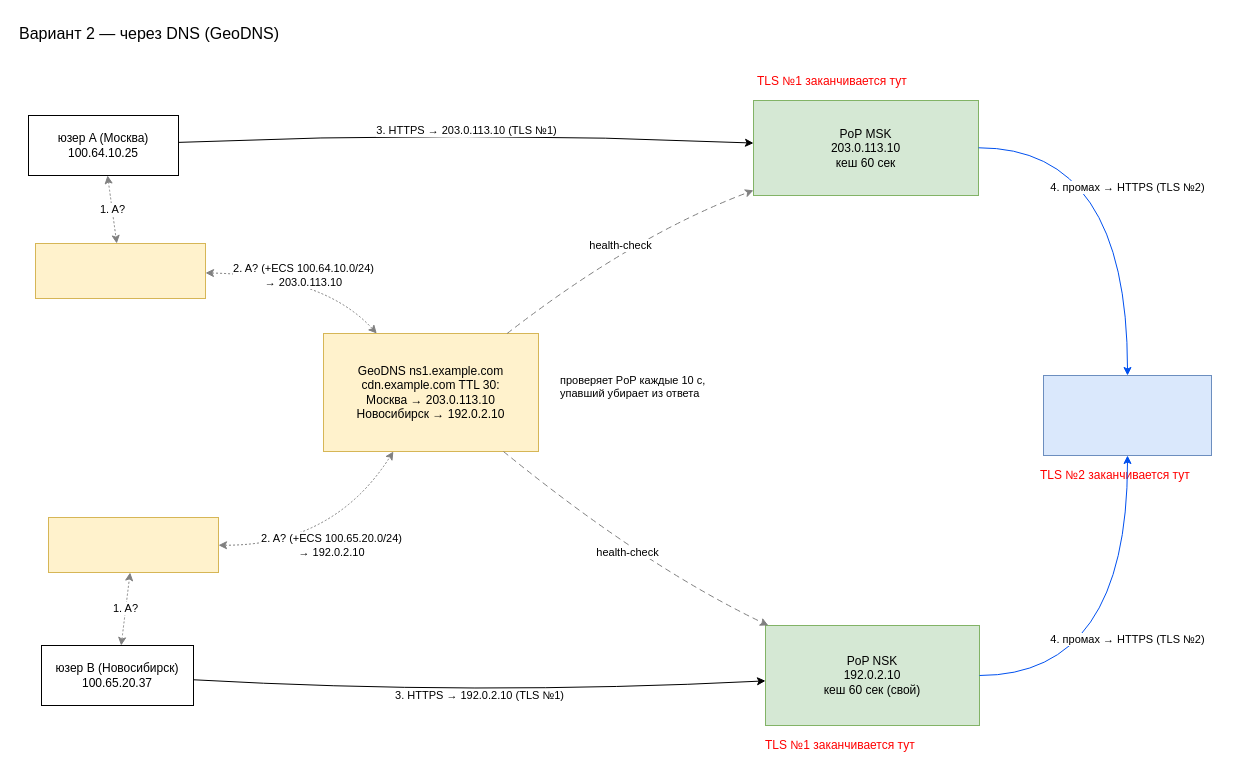
This 1245x770 diagram has some shape labels left out. Each missing label, with the centre of its shape:
origin origin.example.com 198.51.100.10: the point at 1127,415
резолвер провайдера A 100.64.0.53 (кеширует): the point at 120,270
резолвер провайдера B 100.65.0.53 (кеширует): the point at 133,544
